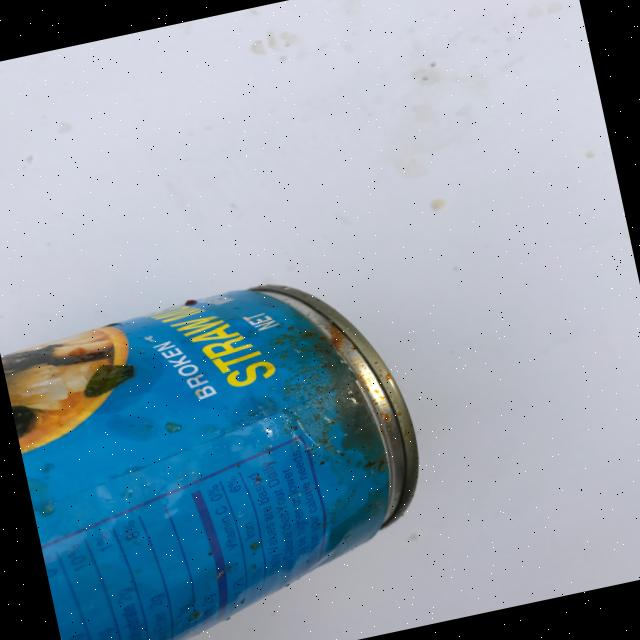metal: (0, 257, 454, 640)
